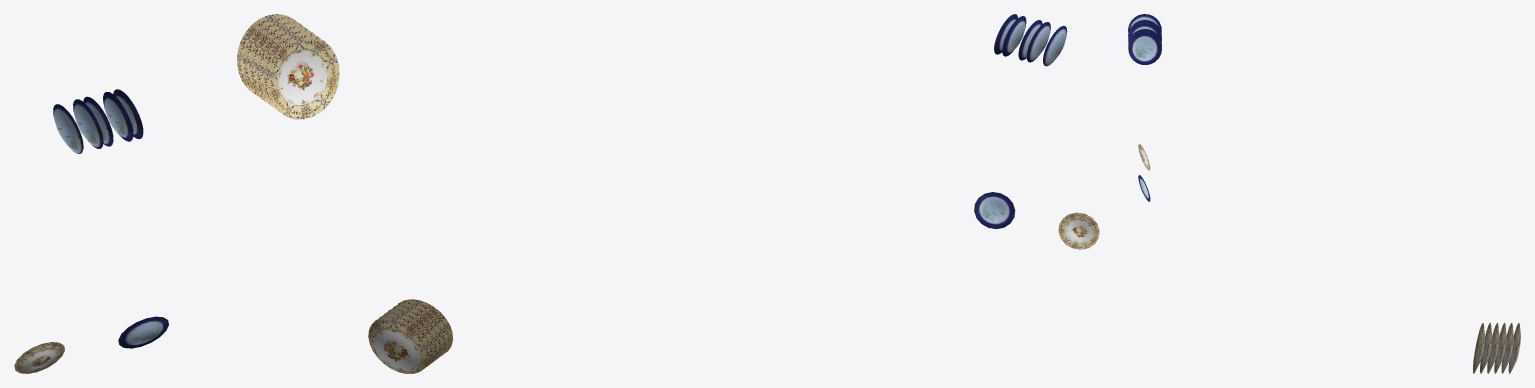
The model's file is panzi.fbx.
3 renders of one model, left to right at view 1: azimuth 30°, elevation 25°; view 2: azimuth 150°, elevation 25°; view 3: azimuth 270°, elevation 25°, orthographic. The views are drawn at different scales.
Visible parts, largest first — view 1: panzi; view 2: panzi; view 3: panzi.
Part boxes in pixels (x1=…): panzi: x1=14, y1=14, x2=339, y2=373; panzi: x1=368, y1=14, x2=1099, y2=373; panzi: x1=1128, y1=14, x2=1520, y2=373.
Size of the model in its own units: 284 by 151 by 264.
